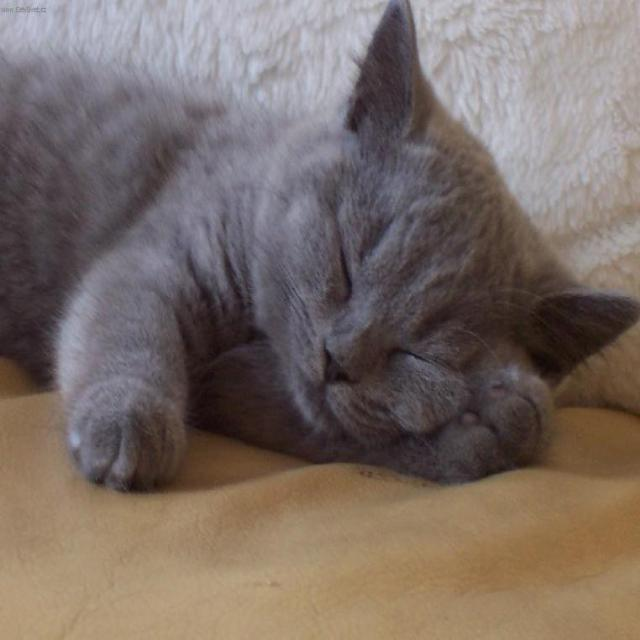British_Shorthair: (259, 4, 638, 488)
